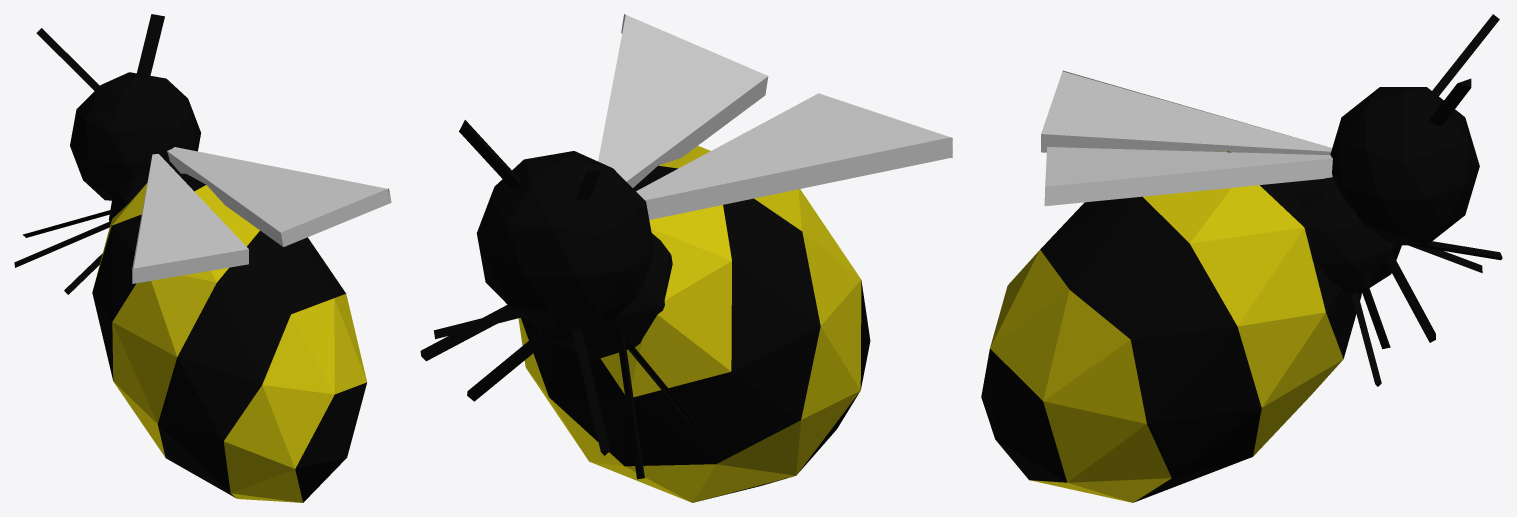
The model's file is bee.obj.
The picture shows the model from 3 angles, left to right: view 1: azimuth 30°, elevation 25°; view 2: azimuth 150°, elevation 25°; view 3: azimuth 270°, elevation 25°; orthographic projection. The views are drawn at different scales.
Parts seen in each view (by area): view 1: Icosphere, Cube_Cube.001, Icosphere.002, Icosphere.001; view 2: Icosphere, Cube_Cube.001, Icosphere.002, Icosphere.001; view 3: Icosphere, Cube_Cube.001, Icosphere.002, Icosphere.001.
Part boxes in pixels (x1,y1,x2,y2): Icosphere: [92, 173, 367, 502]; Cube_Cube.001: [132, 147, 391, 283]; Icosphere.002: [36, 14, 200, 200]; Icosphere.001: [14, 162, 180, 294]; Icosphere: [518, 146, 870, 502]; Cube_Cube.001: [598, 14, 952, 219]; Icosphere.002: [459, 120, 654, 332]; Icosphere.001: [420, 233, 697, 479]; Icosphere: [981, 151, 1361, 502]; Cube_Cube.001: [1041, 70, 1332, 206]; Icosphere.002: [1330, 14, 1499, 245]; Icosphere.001: [1293, 177, 1502, 386].
Bounding box in the file's own units: 0.9326 × 1.28 × 1.38.
